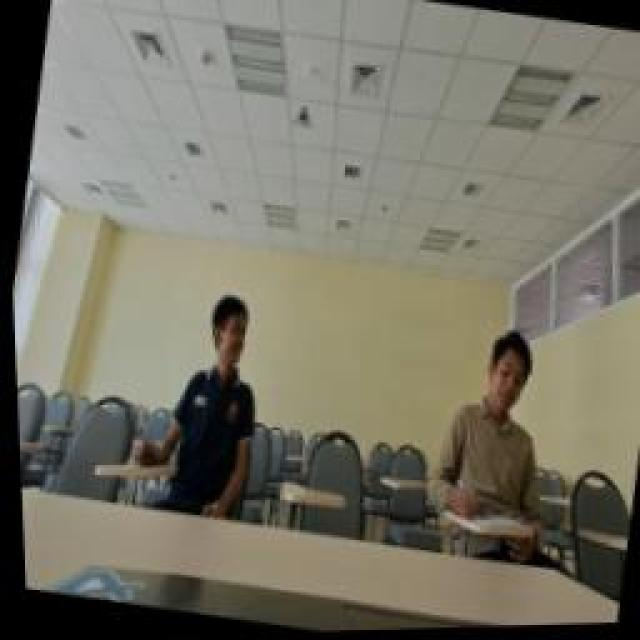study: (417, 325, 565, 527), (135, 285, 273, 480)
